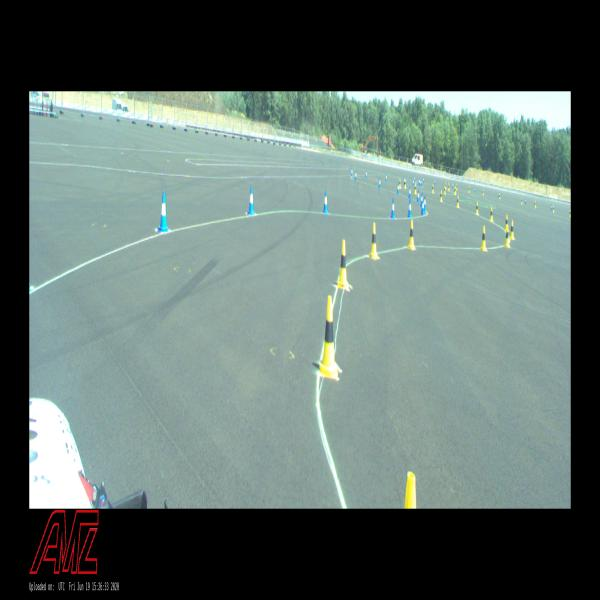blue_cone: (158, 192, 168, 231), (248, 186, 255, 215), (323, 190, 328, 214), (390, 198, 395, 218), (408, 199, 412, 218), (421, 198, 424, 215), (420, 192, 423, 207), (416, 190, 419, 203), (408, 187, 411, 198), (378, 178, 381, 189), (424, 195, 426, 211), (397, 184, 399, 194), (351, 168, 353, 177), (419, 179, 421, 187), (452, 182, 454, 189), (434, 178, 436, 185), (355, 170, 356, 180), (366, 170, 367, 179), (386, 174, 387, 182), (413, 178, 414, 186), (423, 176, 424, 184), (421, 178, 422, 186), (551, 204, 552, 211), (525, 198, 526, 204), (474, 187, 475, 193)
yellow_cone: (319, 296, 338, 380), (336, 240, 350, 288), (369, 222, 378, 259), (408, 220, 416, 250), (480, 226, 487, 251), (504, 226, 510, 247), (510, 221, 515, 240), (505, 214, 509, 231), (490, 206, 494, 222), (475, 202, 479, 215), (456, 196, 459, 208), (440, 190, 442, 202), (399, 178, 401, 189), (414, 184, 416, 194), (432, 184, 434, 193), (404, 179, 406, 188), (454, 187, 456, 195), (444, 186, 446, 194), (569, 210, 571, 218), (456, 183, 458, 191), (468, 186, 470, 193), (482, 189, 484, 196), (534, 201, 536, 208), (445, 181, 446, 190), (448, 183, 449, 191), (553, 206, 554, 213), (499, 193, 500, 200), (521, 198, 522, 205)
